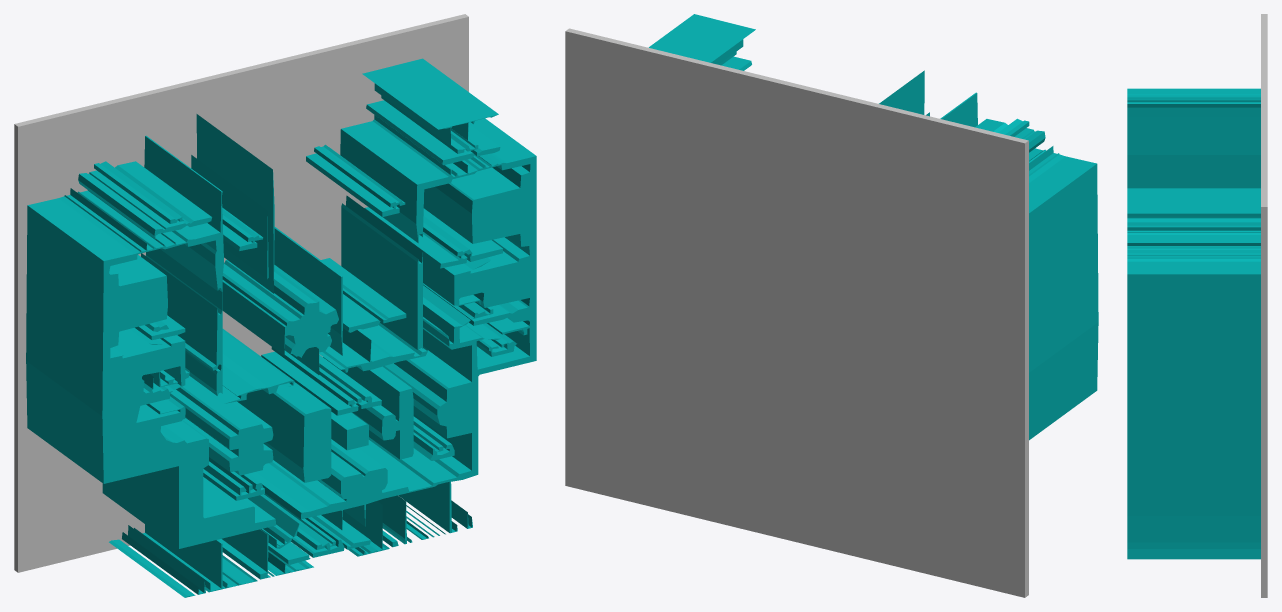
The picture shows the model from 3 angles, left to right: view 1: azimuth 30°, elevation 25°; view 2: azimuth 150°, elevation 25°; view 3: azimuth 270°, elevation 25°; orthographic projection. The views are drawn at different scales.
Parts seen in each view (by area): view 1: world; view 2: world; view 3: world.
Part boxes in pixels (left/top/right/bottom): world: left=14, top=14, right=536, bottom=597; world: left=565, top=14, right=1098, bottom=597; world: left=1127, top=14, right=1267, bottom=597.
Bounding box in the file's own units: 10.23 × 9.67 × 3.15.
